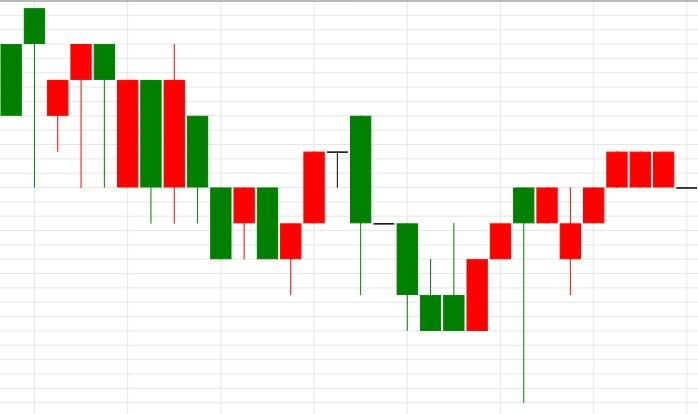bullish_engulfing_rise: (69, 43, 186, 224)
evening_star_fall: (209, 116, 372, 295)
hanging_man_fall: (443, 188, 535, 403)
inverse_hammer_rise: (350, 116, 466, 332)
three_white_soldiers_rise: (513, 151, 629, 403)
